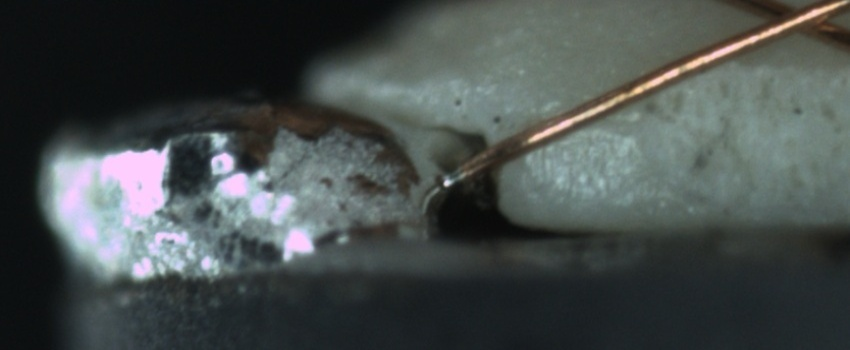CL: (733, 0, 847, 46)
DL: (555, 97, 645, 152)
